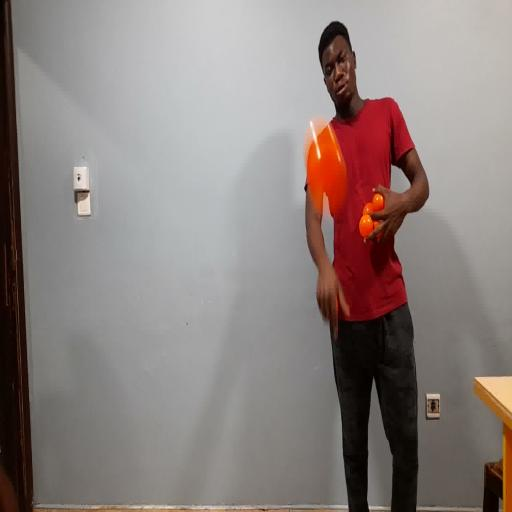plastic-ball: (298, 116, 353, 221)
